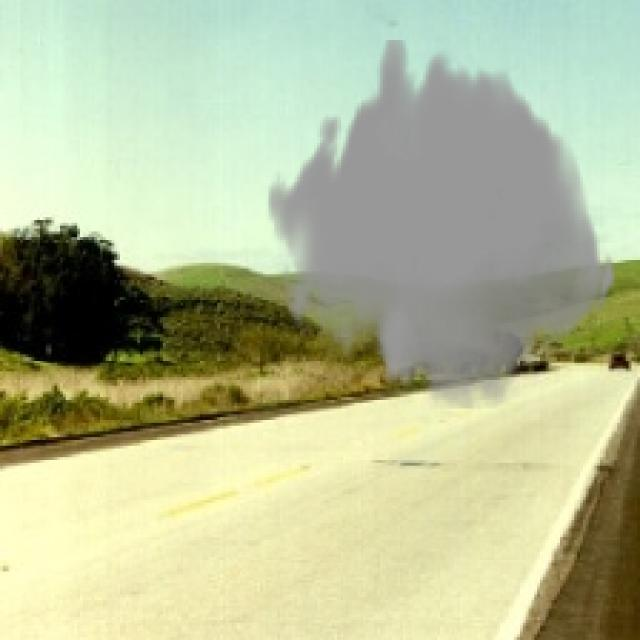smoke: (266, 40, 617, 409)
